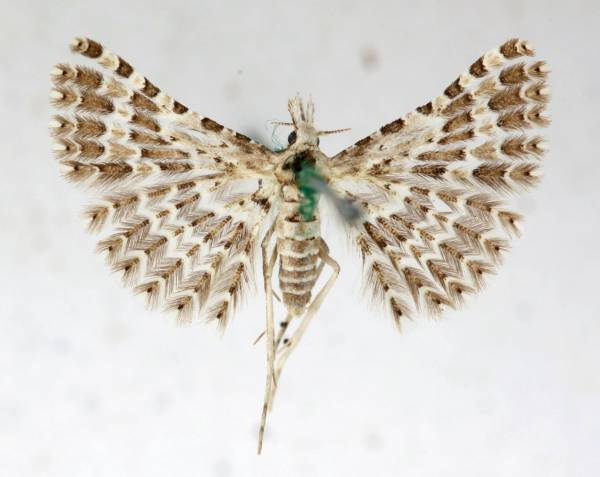Alucitidae: (42, 36, 552, 461)
moth: (40, 34, 550, 459)
